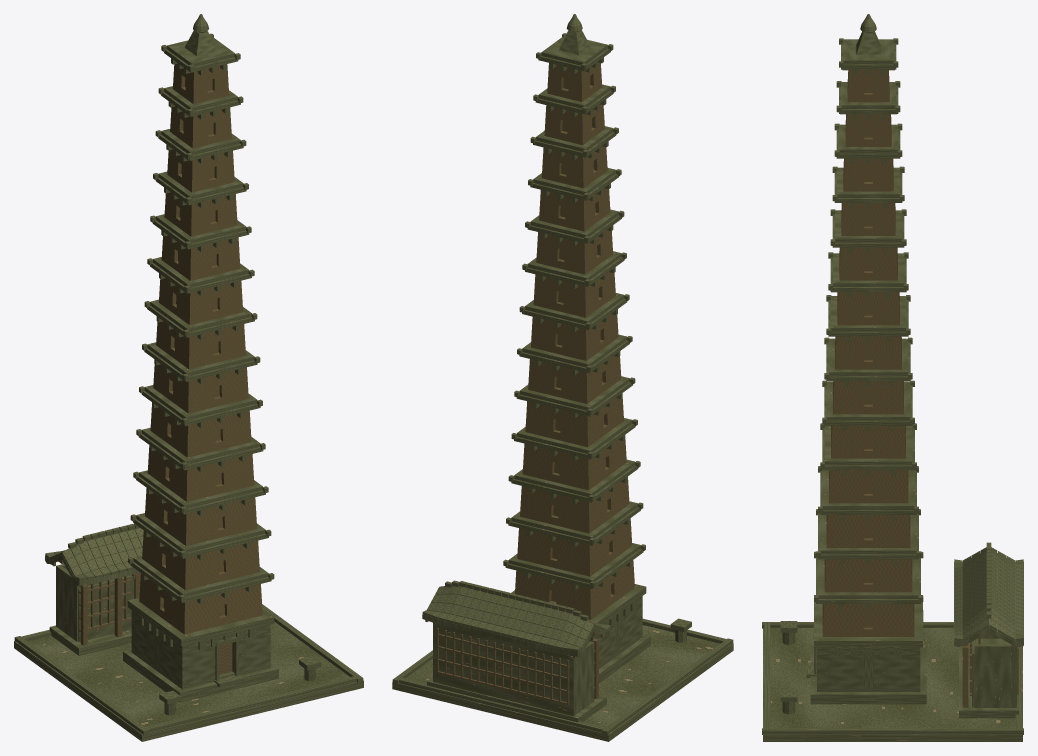
3 renders of one model, left to right at view 1: azimuth 30°, elevation 25°; view 2: azimuth 150°, elevation 25°; view 3: azimuth 270°, elevation 25°, orthographic. The views are drawn at different scales.
Visible parts, largest first — view 1: garrison_part_0001, garrison_part_0000; view 2: garrison_part_0001, garrison_part_0000; view 3: garrison_part_0001, garrison_part_0000.
Part boxes in pixels (x1,y1,x2,y2): garrison_part_0001: [45, 14, 321, 715]; garrison_part_0000: [14, 598, 363, 741]; garrison_part_0001: [422, 14, 691, 716]; garrison_part_0000: [392, 584, 733, 741]; garrison_part_0001: [780, 14, 1023, 714]; garrison_part_0000: [762, 595, 1023, 741].
Size of the model in its own units: 685 by 1956 by 690.
